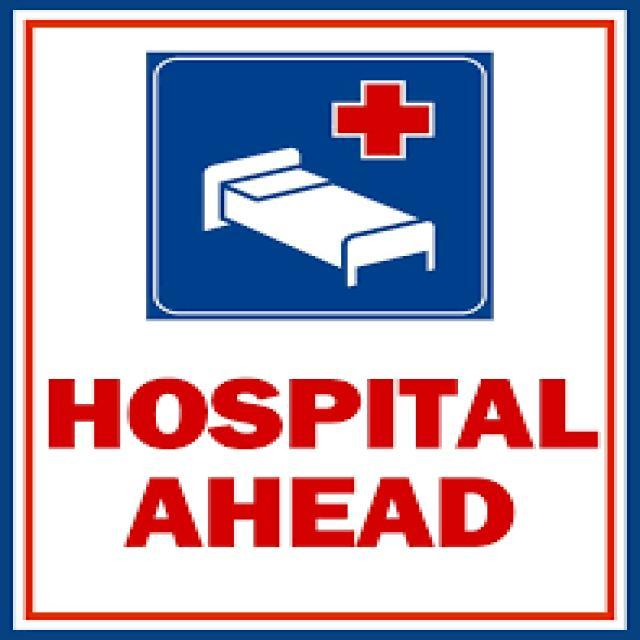hospital ahead: (143, 49, 495, 324)
